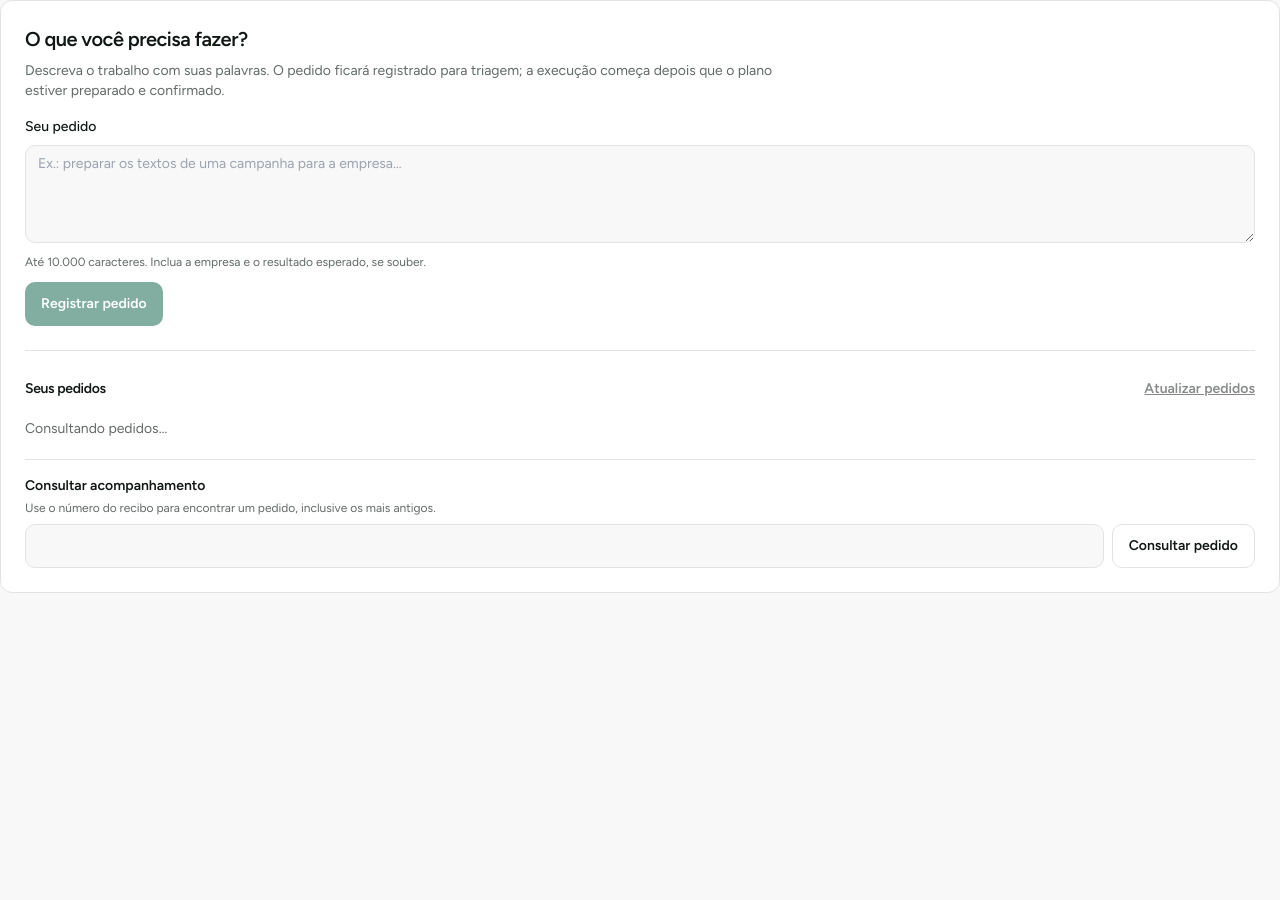
registra texto livre, só anuncia recebimento confirmado e conserva o acompanhamento
In the text box labelled "Seu pedido": (640, 194) [25,145,1255,243], type "  Campanha da eLiving™  "
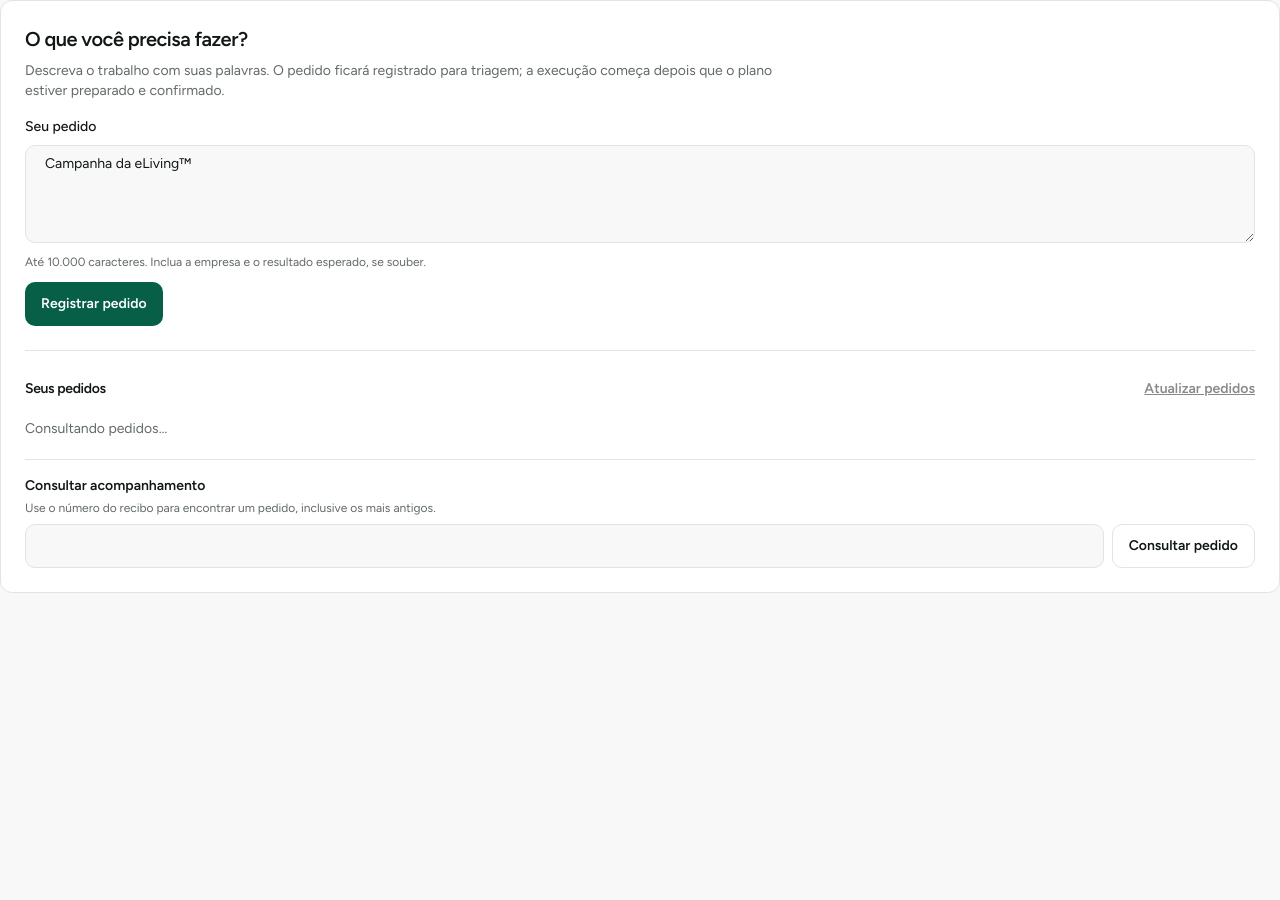
Click the button "Registrar pedido": (94, 304) [25,282,163,326]
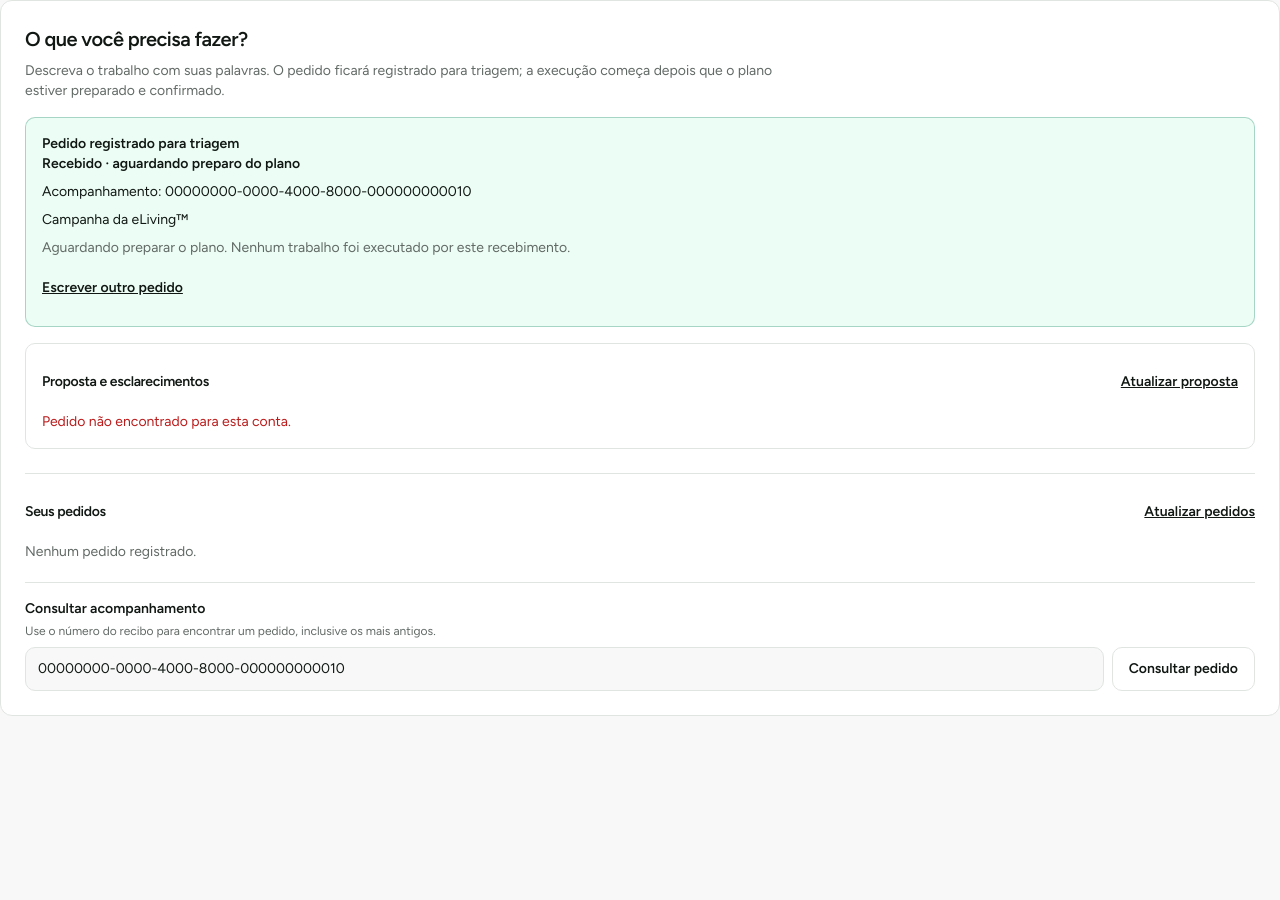
Check: the text "Pedido registrado para triagem" is shown, box [42,135,239,152]
Check: the text "Acompanhamento: 00000000-0000-4000-8000-000000000010" is shown, box [42,183,472,200]
Check: the text "Nenhum trabalho foi executado" is shown, box [42,239,570,256]
